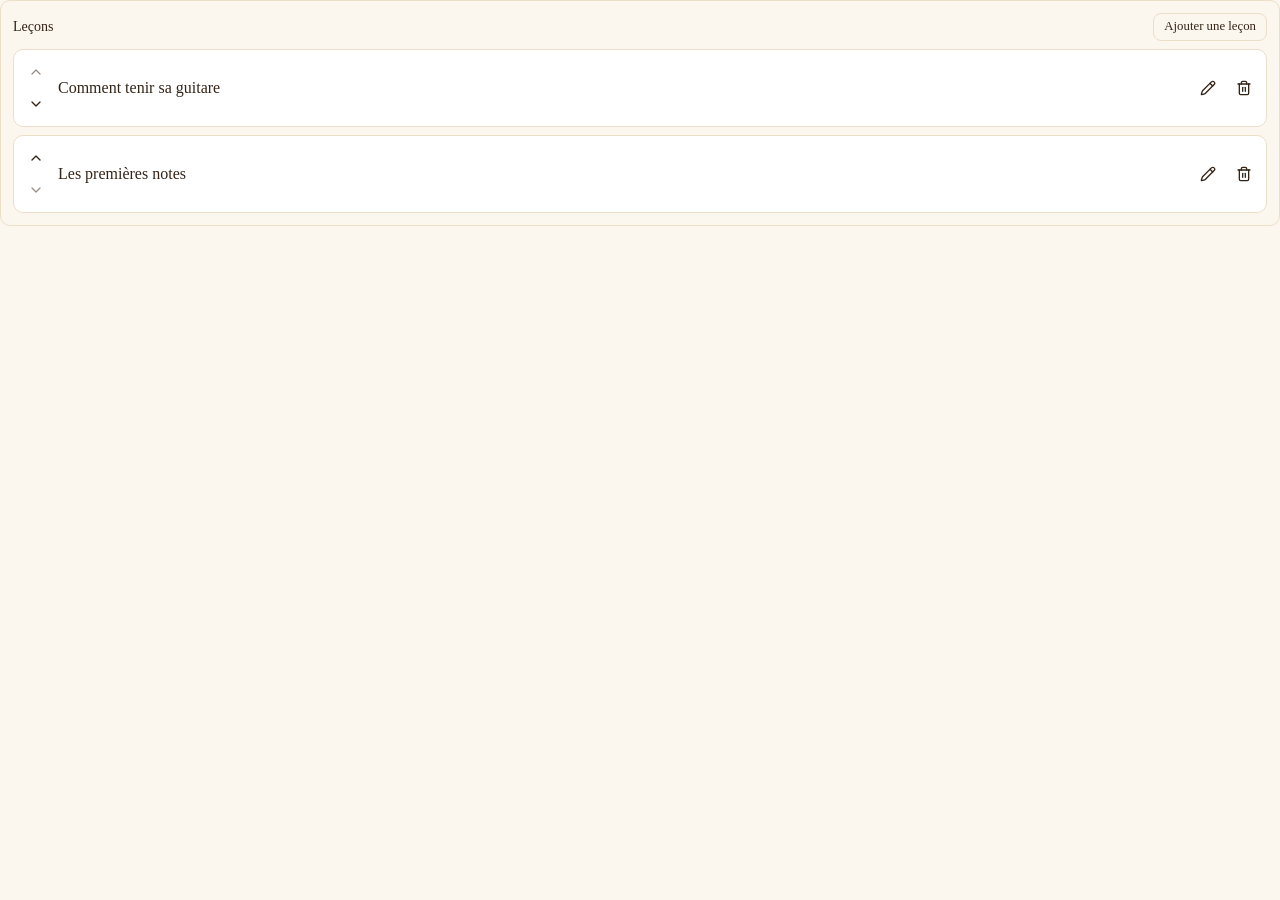
Test: Lesson UI Integration › LessonSection › should open the add dialog with empty fields
Click the button "Ajouter une leçon".
click(1210, 27)  # box [1153,13,1267,41]
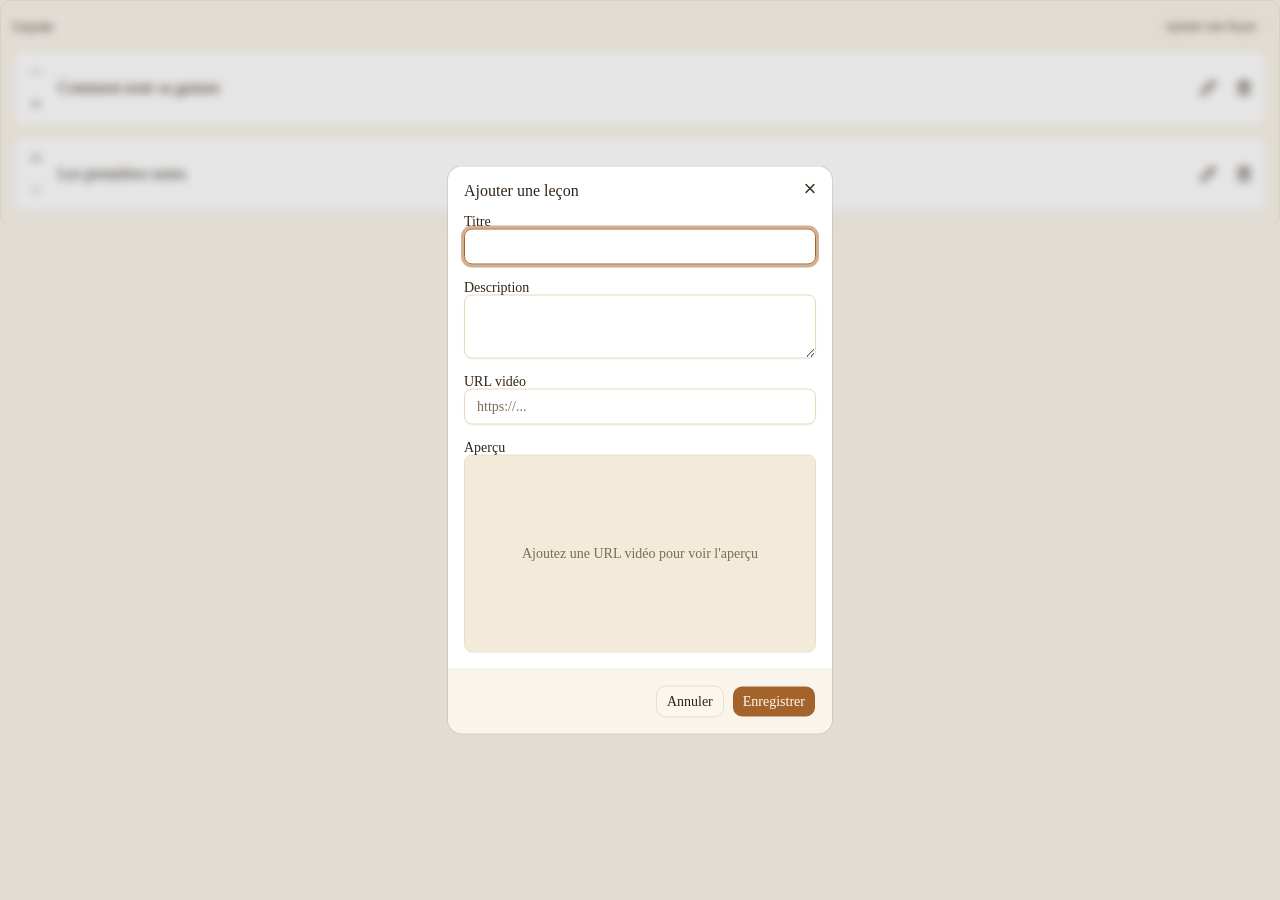
Expected: the field labelled "Titre" is empty, [464,228,816,264]
Now the heading "Ajouter une leçon" is shown, box [464,182,579,198]
